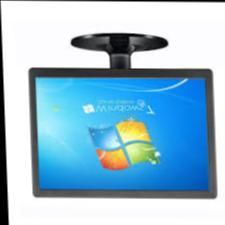monitor: (21, 27, 220, 201)
